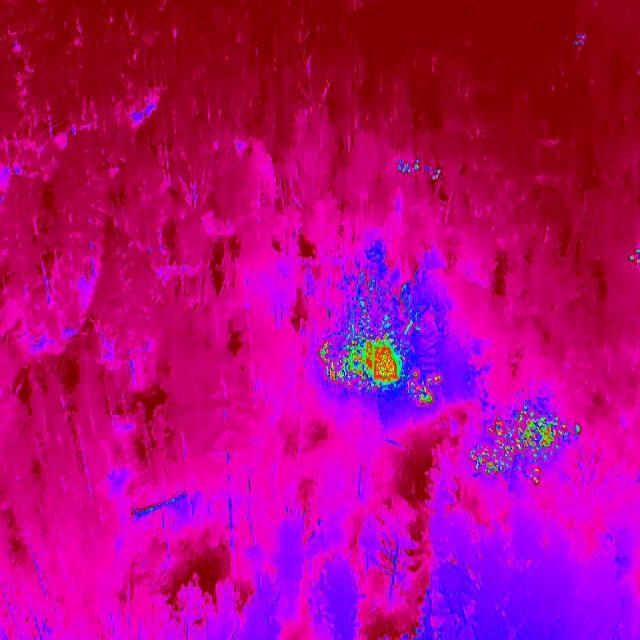fire: (468, 402, 584, 488), (316, 332, 406, 396), (407, 369, 442, 409), (397, 156, 442, 182), (628, 246, 640, 269)
